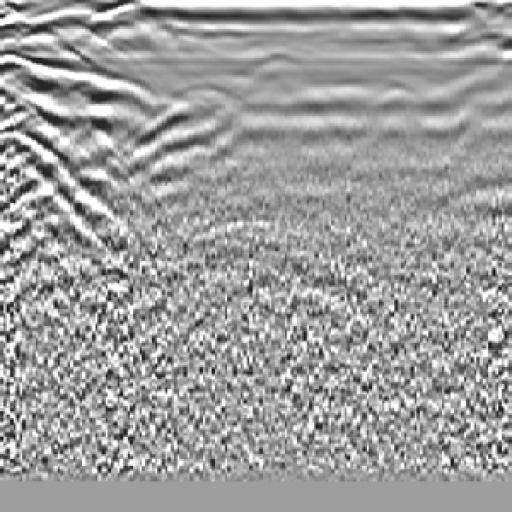non-metallic: (1, 25, 154, 315), (139, 189, 357, 368)
